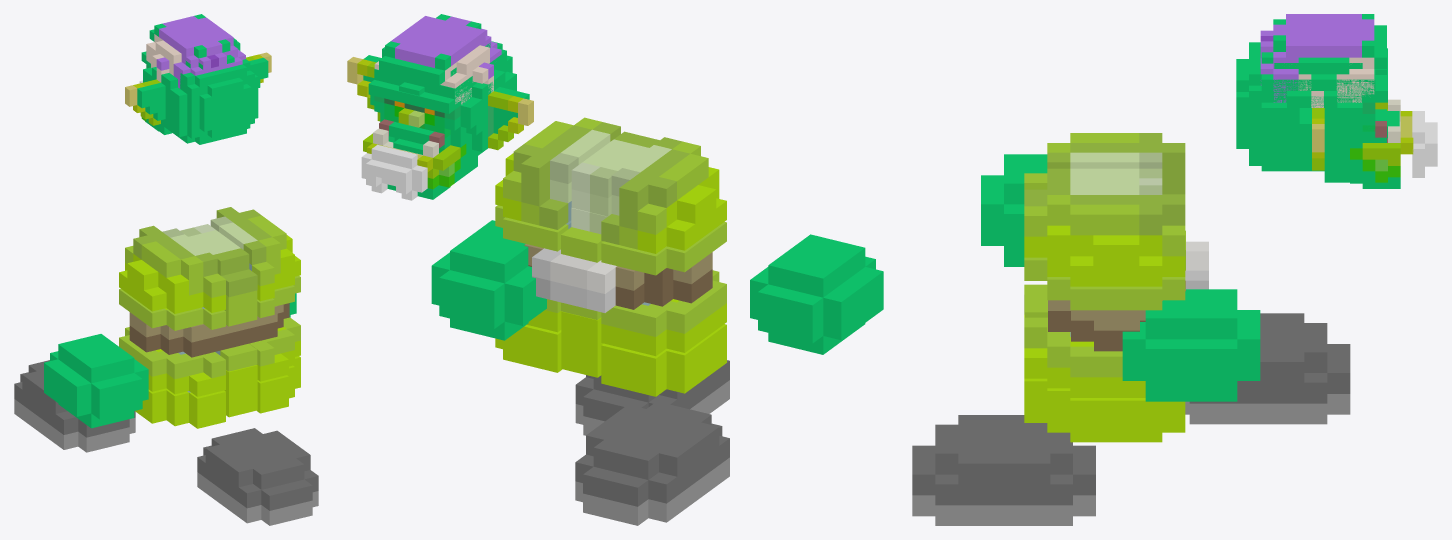
File: orc02_modular.glb
3 renders of one model, left to right at view 1: azimuth 30°, elevation 25°; view 2: azimuth 150°, elevation 25°; view 3: azimuth 270°, elevation 25°, orthographic. The views are drawn at different scales.
Parts seen in each view (by area): view 1: foot_R, head, hand_L, upper_arm_L, torso, hair, foot_L, upper_arm_R, pelvis, thigh_L, shin_L, thigh_R (+3 smaller); view 2: foot_L, head, hand_L, hair, upper_arm_L, torso, hand_R, upper_arm_R, pelvis, thigh_L, shin_L, foot_R (+4 smaller); view 3: foot_R, head, upper_arm_R, hand_R, foot_L, hair, shin_R, thigh_R, upper_arm_L, torso, hand_L, forearm_R (+1 smaller).
Part boxes in pixels (x1,y1,x2,y2): foot_R: [197, 428, 318, 525]; head: [125, 51, 271, 144]; hand_L: [44, 334, 148, 428]; upper_arm_L: [119, 225, 225, 313]; torso: [129, 290, 289, 371]; hair: [139, 14, 245, 88]; foot_L: [14, 360, 135, 452]; upper_arm_R: [210, 207, 300, 301]; pelvis: [180, 224, 257, 417]; thigh_L: [119, 327, 225, 396]; shin_L: [135, 388, 225, 428]; thigh_R: [249, 317, 300, 381]; foot_L: [575, 401, 729, 525]; head: [347, 41, 533, 199]; hand_L: [750, 234, 883, 354]; hair: [361, 14, 501, 200]; upper_arm_L: [601, 137, 726, 253]; torso: [524, 208, 712, 319]; hand_R: [431, 220, 546, 340]; upper_arm_R: [495, 117, 620, 229]; pelvis: [561, 131, 659, 377]; thigh_L: [601, 270, 726, 356]; shin_L: [601, 324, 726, 396]; foot_R: [575, 360, 729, 435]; foot_R: [912, 415, 1095, 525]; head: [1236, 42, 1413, 188]; upper_arm_R: [1024, 185, 1185, 286]; hand_R: [1122, 289, 1260, 401]; foot_L: [1185, 313, 1350, 424]; hair: [1260, 14, 1437, 177]; shin_R: [1024, 378, 1185, 442]; thigh_R: [1024, 317, 1145, 397]; upper_arm_L: [1024, 133, 1185, 194]; torso: [1025, 230, 1208, 351]; hand_L: [981, 154, 1047, 266]; forearm_R: [1024, 257, 1185, 310].
Size of the model in its own units: 2 by 2.29 by 2.15.
